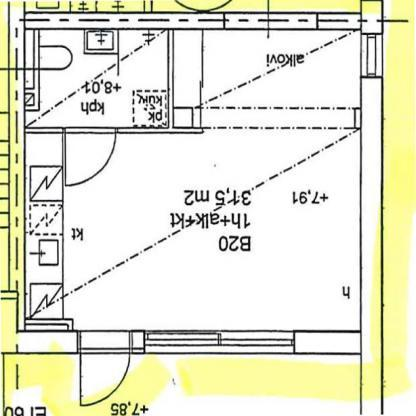bathroom: (20, 26, 172, 126)
door: (73, 324, 136, 410), (62, 124, 119, 191)
perimeter: (13, 21, 376, 348)
window: (139, 324, 304, 360), (358, 31, 386, 80)
